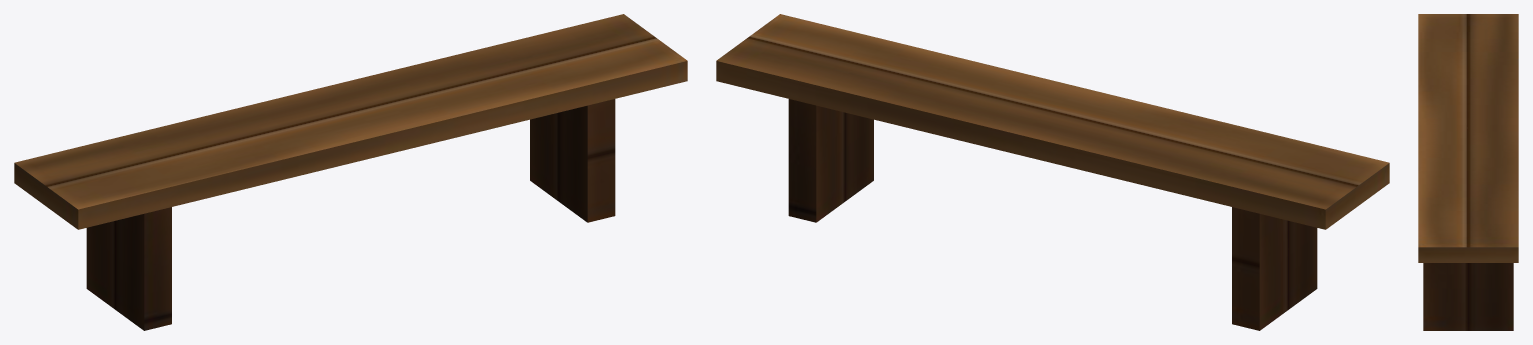
Rendered from hall_bench.glb.
3 views of the same model, side by side, from view 1: azimuth 30°, elevation 25°; view 2: azimuth 150°, elevation 25°; view 3: azimuth 270°, elevation 25° (orthographic). The views are drawn at different scales.
Parts seen in each view (by area): view 1: hall_bench_mesh; view 2: hall_bench_mesh; view 3: hall_bench_mesh.
Part boxes in pixels (x1=…): hall_bench_mesh: x1=14, y1=14, x2=687, y2=330; hall_bench_mesh: x1=716, y1=14, x2=1389, y2=330; hall_bench_mesh: x1=1418, y1=14, x2=1518, y2=330.
Size of the model in its own units: 2.2 by 0.485 by 0.4.
Materials: 1 (1 with a texture image).
